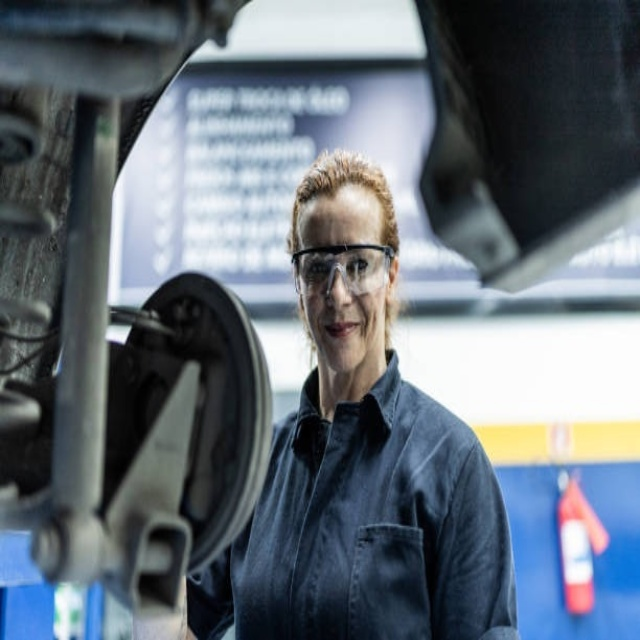Gafas: (292, 244, 393, 299)
Sin_mascara: (315, 310, 367, 357)
